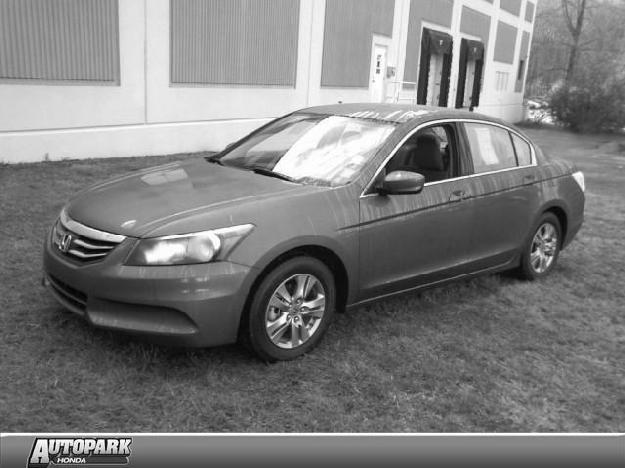car: (40, 104, 587, 363)
